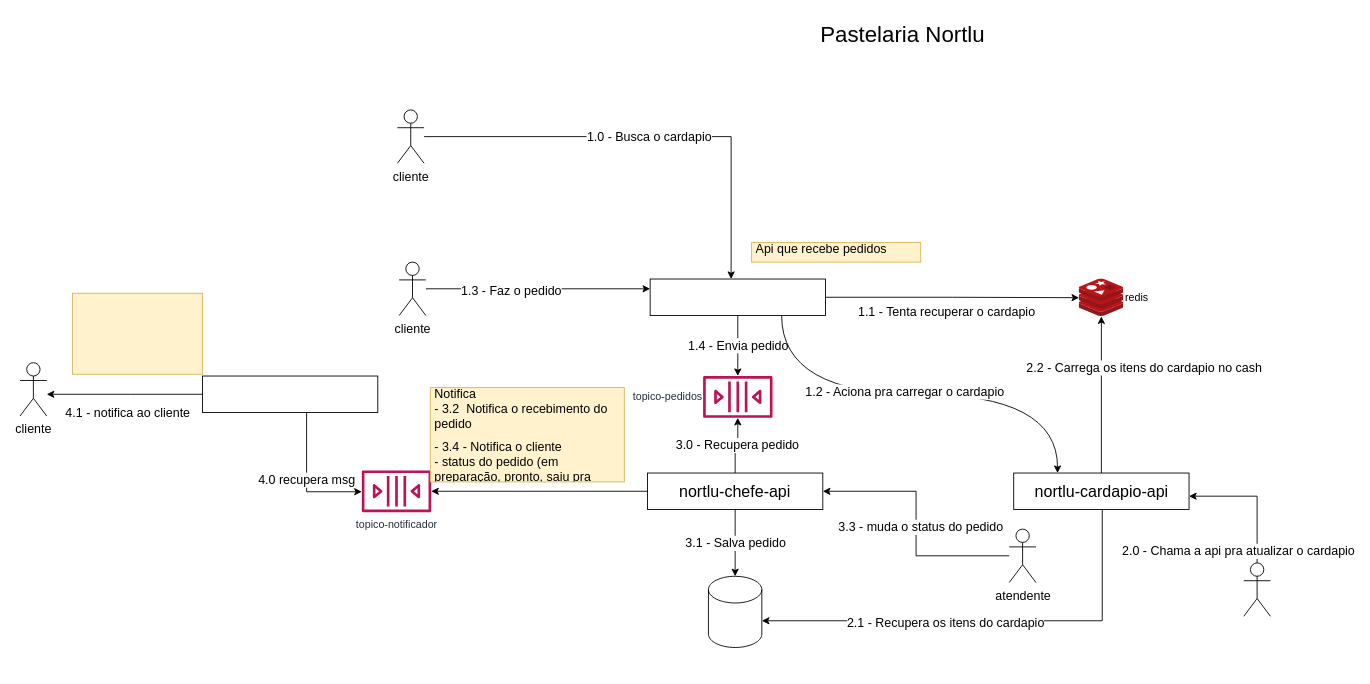
This 1370x684 diagram has some shape labels left out. Each missing label, with the centre of its shape:
gerente: point (1256, 589)
nortlu-garcon-api: point (737, 297)
nortlu-notificador-api: point (290, 394)
Notifica o cliente - via whats - via email - telegram: point (137, 333)
postgres: point (735, 611)
